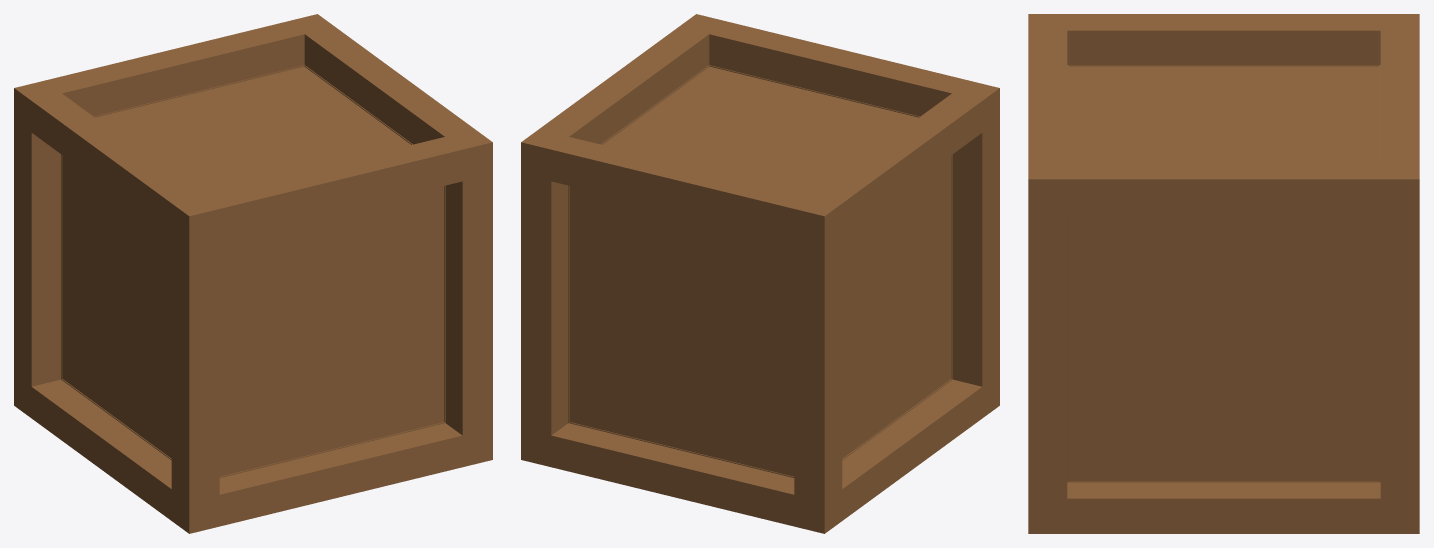
The model's file is crackedbox2.fbx.
3 views of the same model, side by side, from view 1: azimuth 30°, elevation 25°; view 2: azimuth 150°, elevation 25°; view 3: azimuth 270°, elevation 25° (orthographic). The views are drawn at different scales.
Parts seen in each view (by area): view 1: Cube; view 2: Cube; view 3: Cube.
Part boxes in pixels (x1,y1,x2,y2): Cube: [14, 14, 492, 533]; Cube: [521, 14, 999, 533]; Cube: [1028, 14, 1419, 533].
Size of the model in its own units: 200 by 200 by 200.
